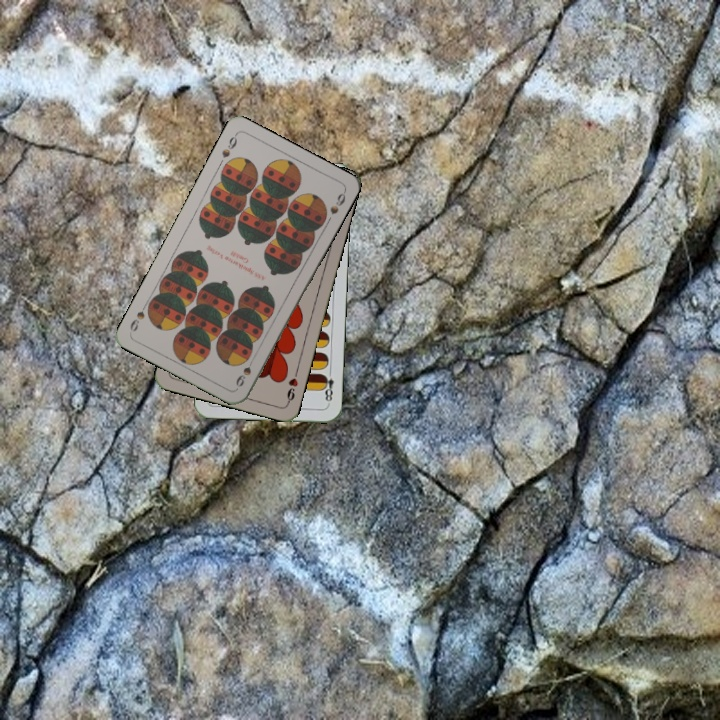E8: (319, 366, 336, 407)
H9: (283, 366, 301, 406)
S9: (232, 353, 257, 390), (218, 130, 240, 161)
